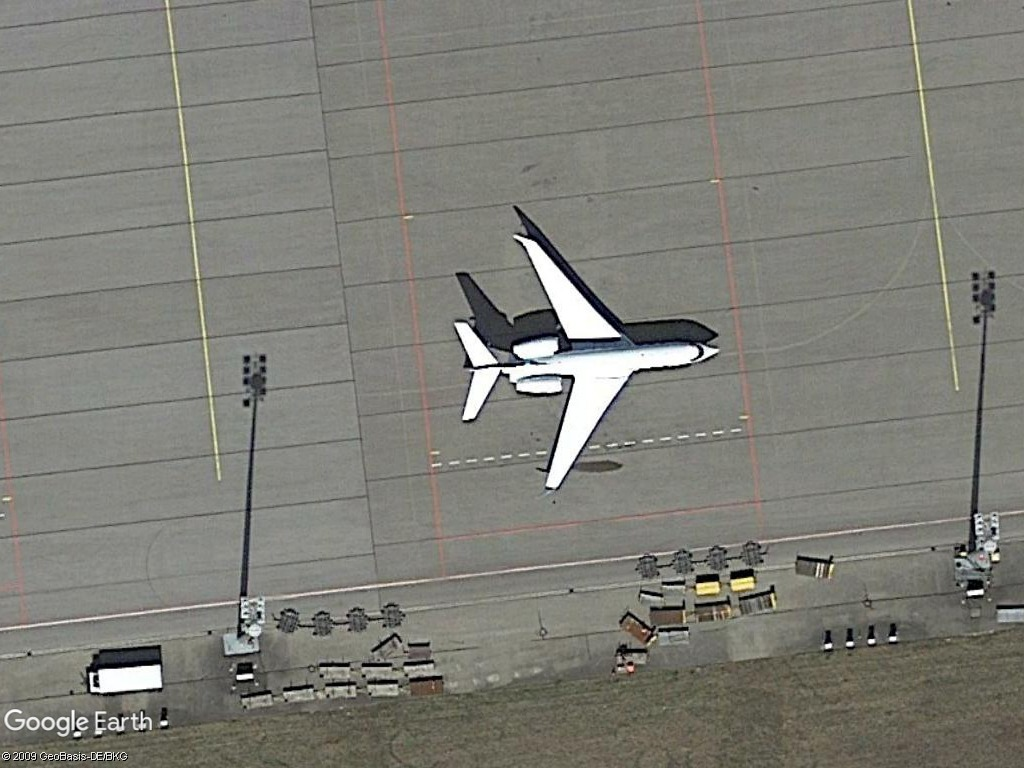chartered: (438, 231, 721, 500)
truck: (81, 660, 169, 702)
